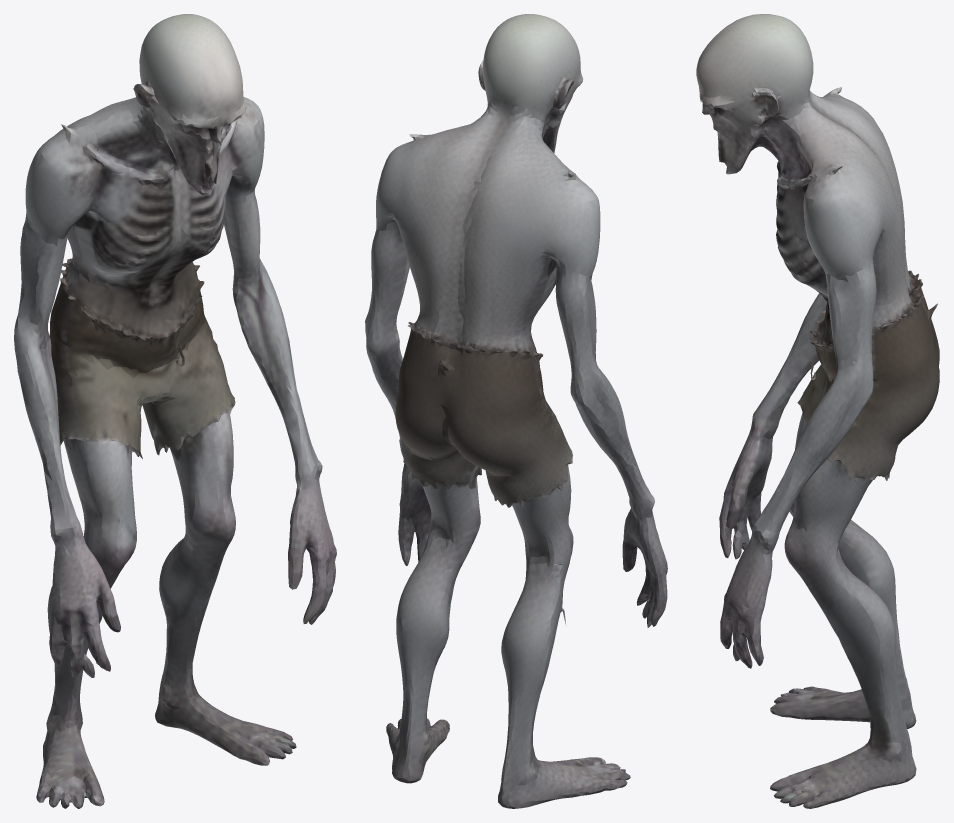
Rendered from monster_vessel_base.glb.
3 renders of one model, left to right at view 1: azimuth 30°, elevation 25°; view 2: azimuth 150°, elevation 25°; view 3: azimuth 270°, elevation 25°, orthographic. The views are drawn at different scales.
Parts seen in each view (by area): view 1: Monster_AI_v3; view 2: Monster_AI_v3; view 3: Monster_AI_v3.
Part boxes in pixels (x1,y1,x2,y2): Monster_AI_v3: (14,14,336,808); Monster_AI_v3: (365,14,667,808); Monster_AI_v3: (696,14,939,808).
Bounding box in the file's own units: 0.9018 × 2.34 × 0.7014.
1 material, 1 textured.
